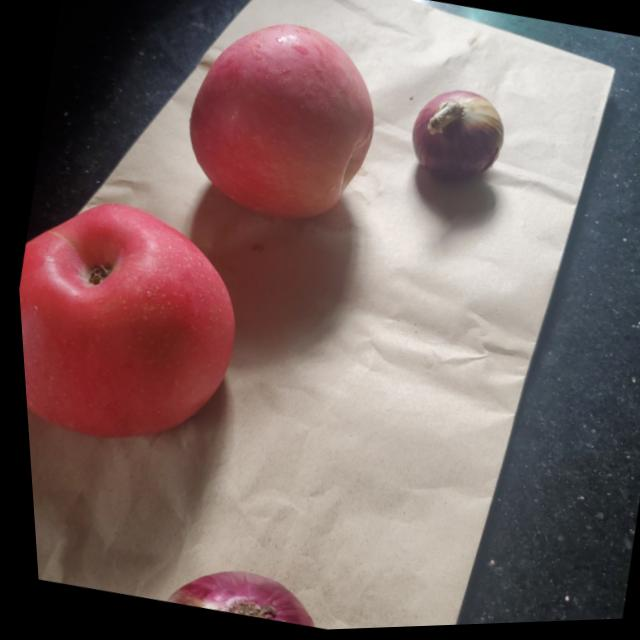apple: (10, 179, 259, 462), (161, 4, 394, 239)
onion: (152, 555, 322, 635), (396, 81, 511, 196)
